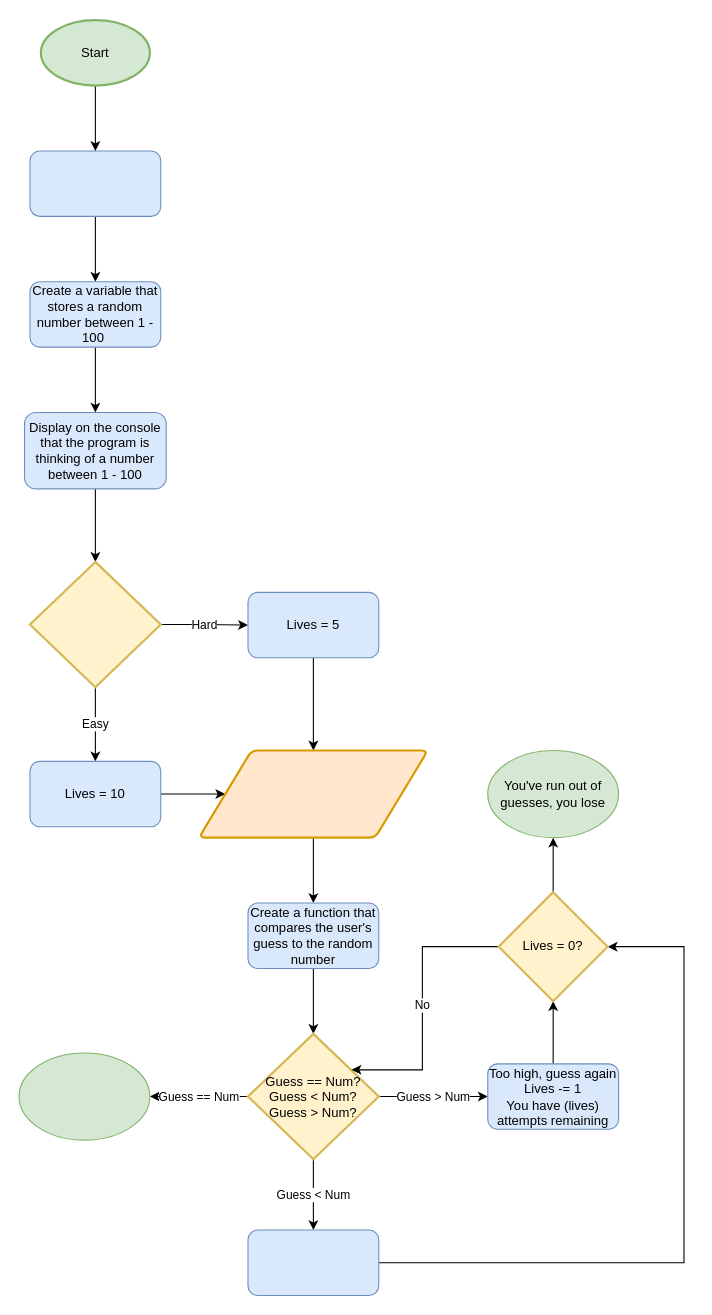
The diagram is 712 pixels wide and 1315 high, and some of its shapes have lost their labels. The shapes that lost their labels are listed below. From the top down, each one's centre as x and y in pixels, then its label:
(x=95, y=183): Present the "Guess the Number" Ascii Art and welcome the player to the game
(x=94, y=624): Easy/Hard mode?
(x=312, y=793): Take user's guess as input
(x=84, y=1096): You got it! The answer was (Num).
(x=313, y=1262): Too low, guess again Lives -= 1 You have (lives) attempts remaining
